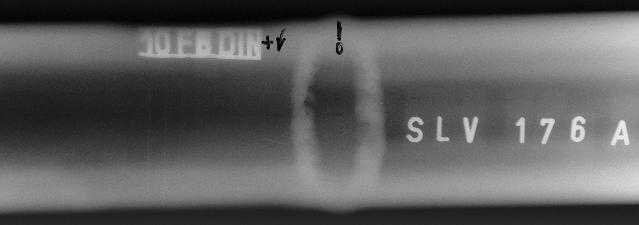FF: (302, 71, 322, 127), (360, 116, 376, 136)
